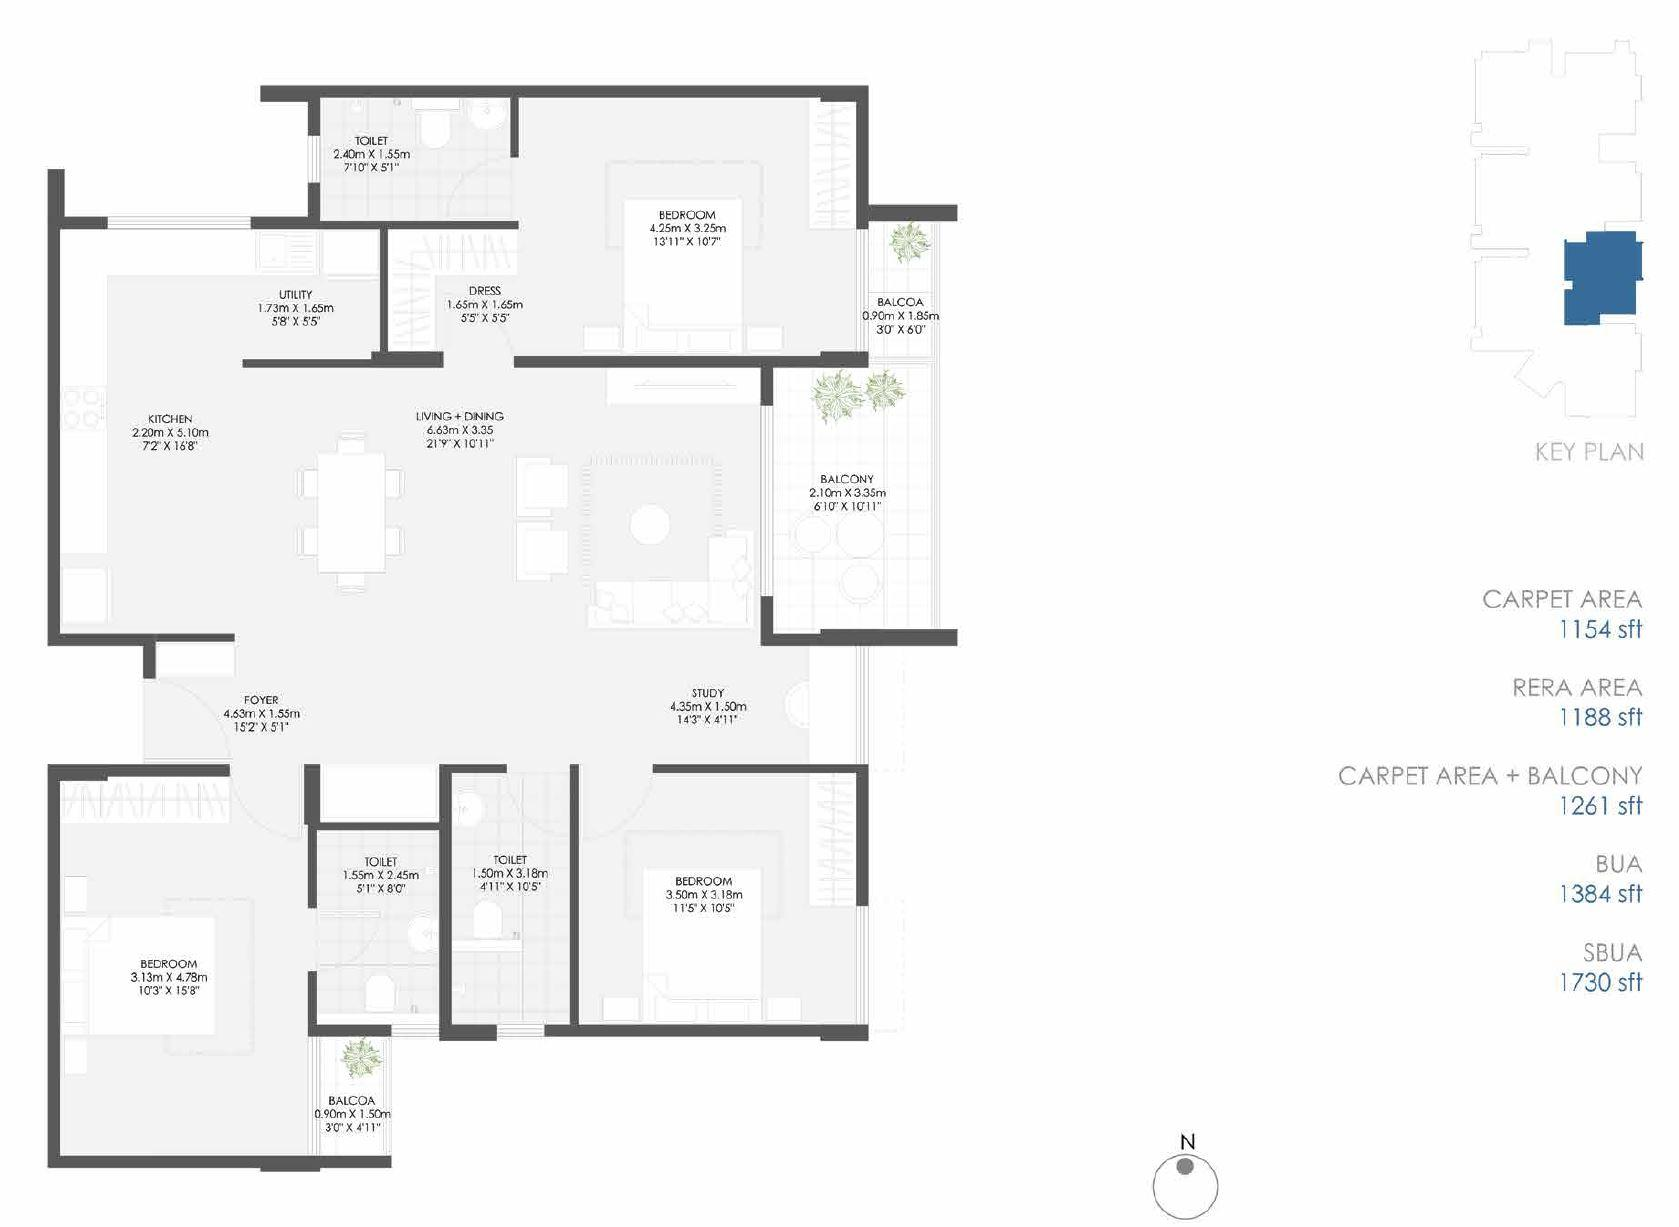Balcony: (768, 362, 926, 632)
Bed: (624, 200, 748, 357), (60, 921, 218, 1035), (641, 875, 760, 1018)
Bedroom: (60, 776, 309, 1154), (518, 98, 856, 353), (579, 775, 860, 1024)
Dining Room: (266, 370, 493, 628)
Dining table: (282, 424, 416, 592)
Foyer: (143, 648, 594, 760)
Kitchen: (61, 232, 252, 639)
Living Room: (486, 370, 764, 644), (763, 635, 763, 635)
Sofa: (591, 574, 753, 630), (704, 523, 761, 631), (516, 525, 580, 585), (515, 454, 570, 519)
Study-table: (806, 645, 855, 754)
Wardrobe: (56, 773, 229, 823), (802, 771, 856, 900), (808, 98, 862, 229), (385, 229, 515, 278), (323, 771, 437, 823), (394, 229, 435, 346), (154, 640, 239, 677)
balcoa: (863, 216, 935, 356), (314, 1037, 388, 1157)
commode: (465, 906, 516, 943), (365, 973, 400, 1014), (417, 113, 451, 150)
door: (143, 673, 229, 768), (574, 765, 666, 841), (435, 288, 521, 365), (309, 897, 387, 973), (235, 767, 305, 850), (752, 394, 780, 592), (503, 767, 568, 845), (442, 162, 516, 218)
fridge: (63, 570, 113, 627)
kitchen-slab: (64, 232, 108, 553), (64, 232, 323, 276)
sink: (450, 781, 490, 827), (465, 103, 510, 137), (407, 909, 437, 953)
stove: (240, 228, 319, 276), (56, 379, 106, 430)
study: (570, 644, 856, 760)
toilet: (450, 771, 566, 1022), (314, 96, 516, 224), (314, 828, 438, 1026)
tv: (617, 376, 746, 406)
utility: (237, 229, 381, 359)
washing-machine: (325, 231, 379, 280)
